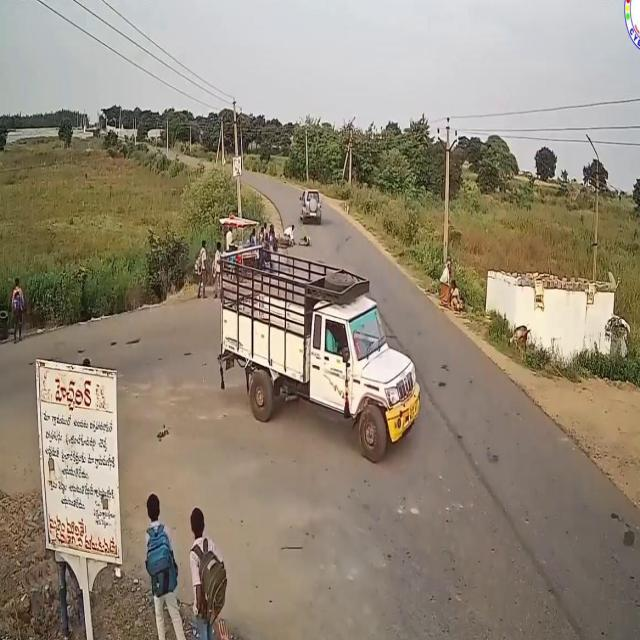accident: (274, 184, 322, 252)
